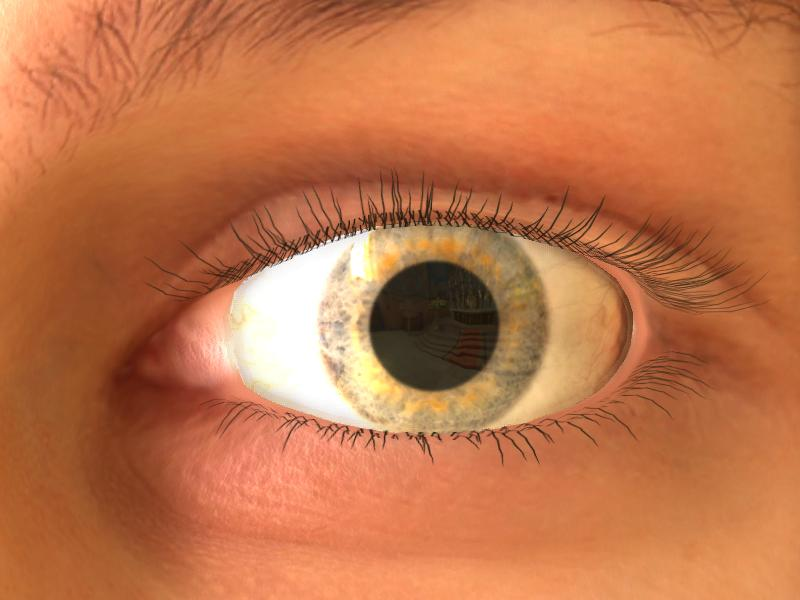eye: (324, 226, 543, 435)
